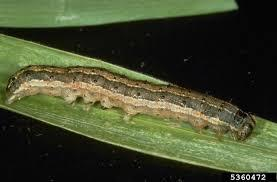fallarmy_worm: (1, 61, 256, 139)
